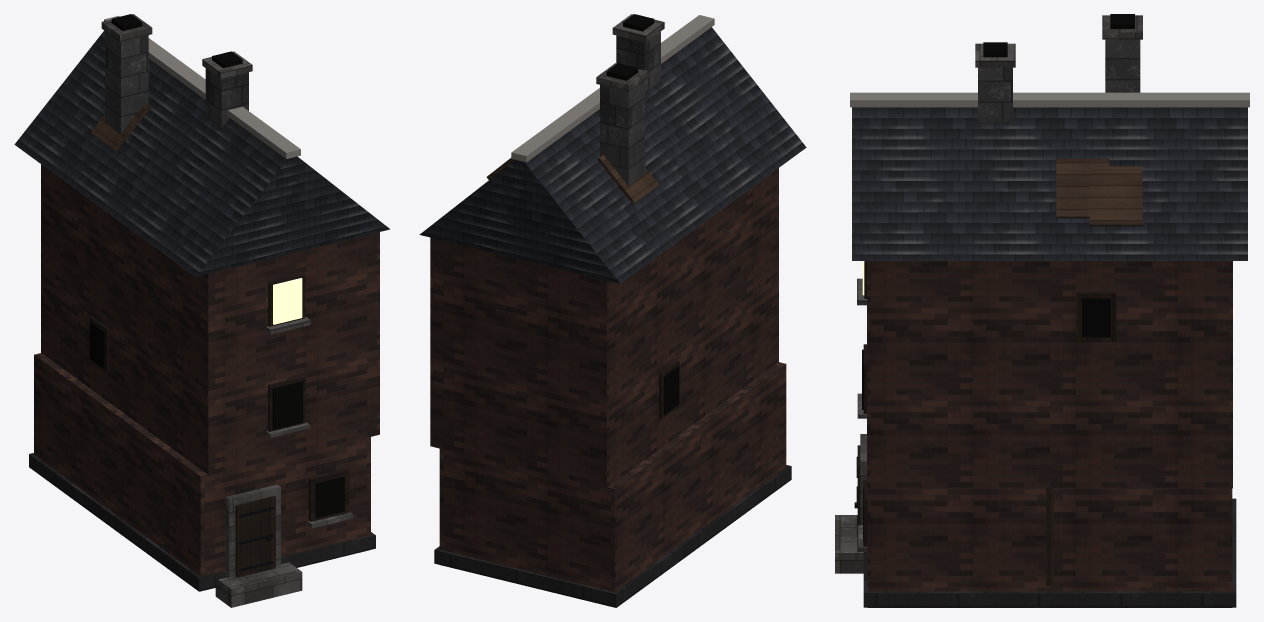
Rendered from CasaS05.gltf.
3 renders of one model, left to right at view 1: azimuth 30°, elevation 25°; view 2: azimuth 150°, elevation 25°; view 3: azimuth 270°, elevation 25°, orthographic. The views are drawn at different scales.
Parts seen in each view (by area): view 1: CasaS05; view 2: CasaS05; view 3: CasaS05.
Part boxes in pixels (left/top/right/bottom): CasaS05: left=14, top=14, right=389, bottom=607; CasaS05: left=419, top=14, right=806, bottom=607; CasaS05: left=835, top=14, right=1249, bottom=607.
Bounding box in the file's own units: 5.66 × 12.57 × 8.9.
Materials: 11 (7 with a texture image).
